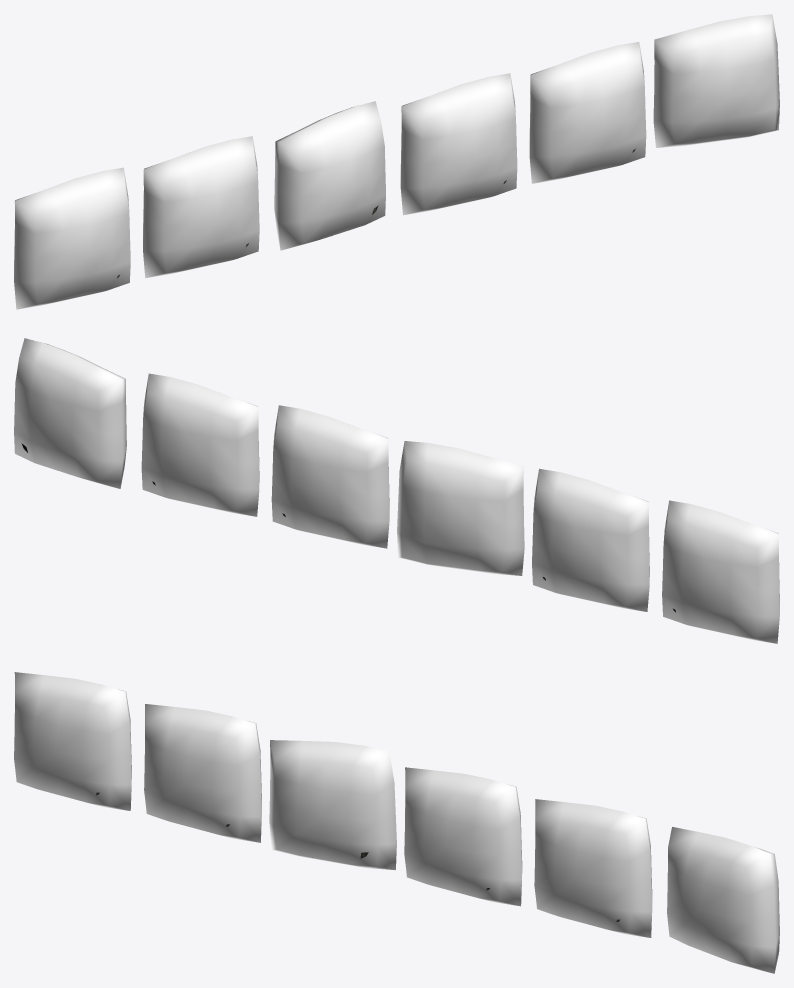
Rendered from SM_onigiri_set_02.fbx.
The picture shows the model from 3 angles, top to bottom: view 1: azimuth 30°, elevation 25°; view 2: azimuth 150°, elevation 25°; view 3: azimuth 330°, elevation 25°; orthographic projection.
Parts seen in each view (by area): view 1: Plane068; view 2: Plane068; view 3: Plane068.
Part boxes in pixels (x1,y1,x2,y2): Plane068: [14, 14, 779, 309]; Plane068: [14, 338, 779, 643]; Plane068: [14, 672, 779, 973].
Size of the model in its own units: 91.62 by 13.94 by 7.35.
